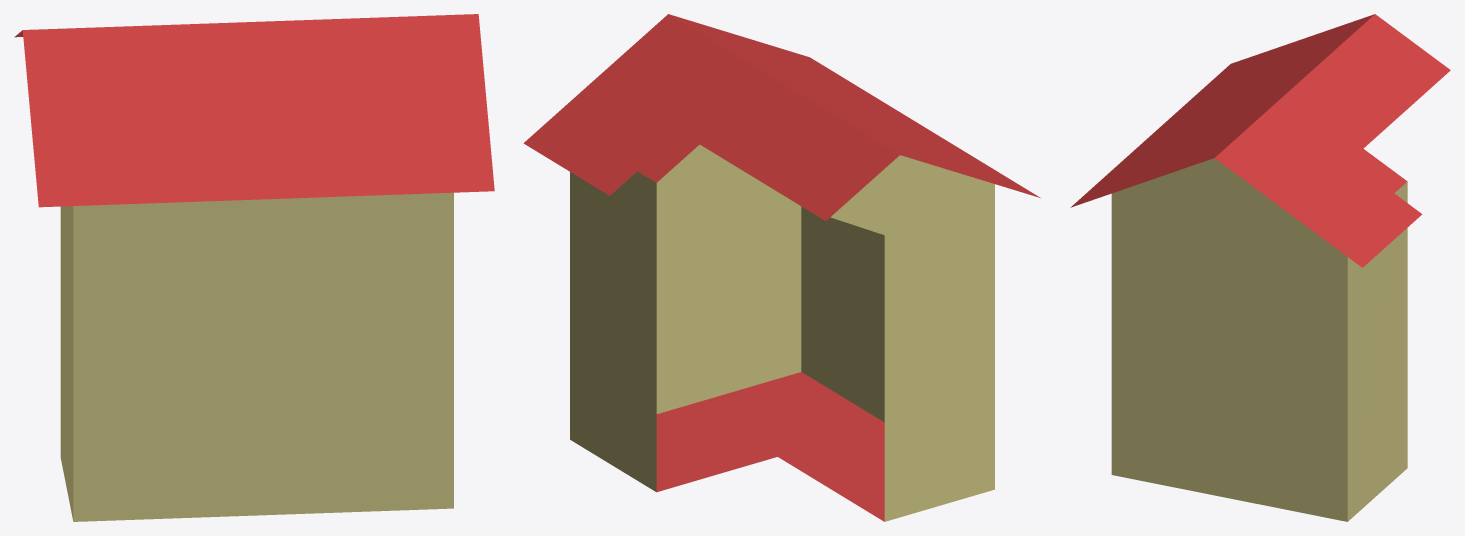
3 renders of one model, left to right at view 1: azimuth 30°, elevation 25°; view 2: azimuth 150°, elevation 25°; view 3: azimuth 270°, elevation 25°, orthographic. The views are drawn at different scales.
Bounding box in the file's own units: 15.36 × 12.22 × 12.46.
